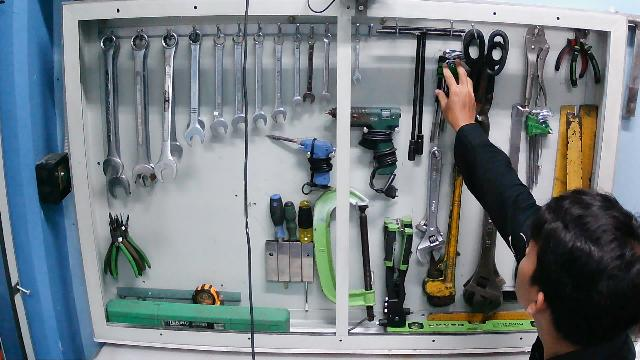kunci_l: (428, 45, 467, 149)
